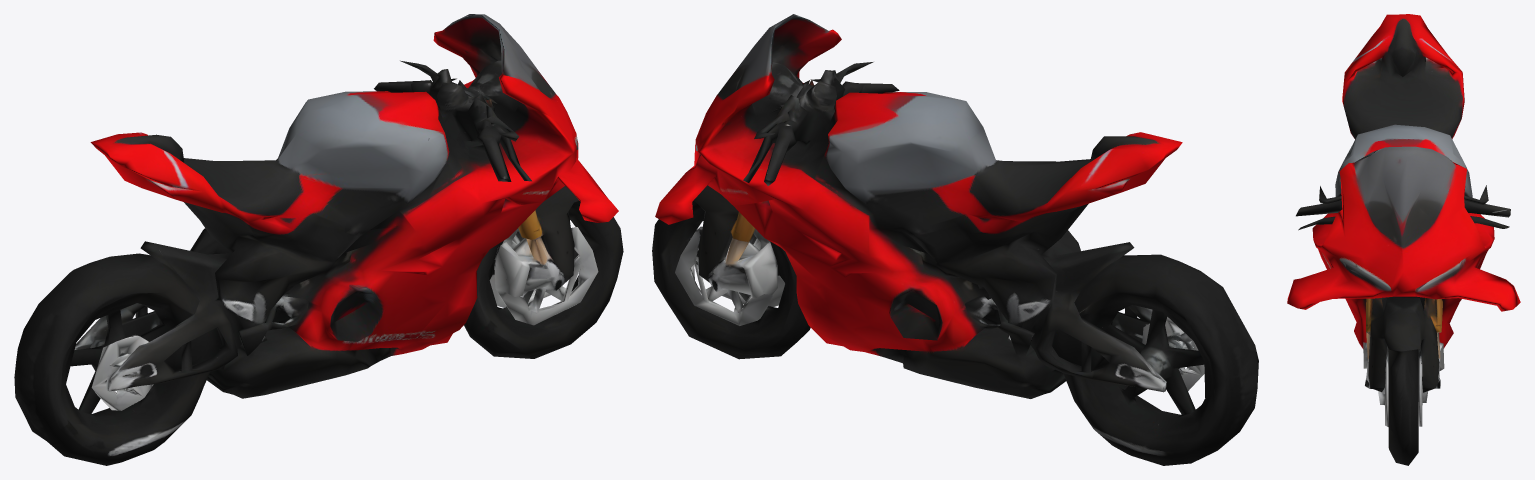
Rendered from Ducati Panigale.glb.
3 views of the same model, side by side, from view 1: azimuth 30°, elevation 25°; view 2: azimuth 150°, elevation 25°; view 3: azimuth 270°, elevation 25° (orthographic). The views are drawn at different scales.
Parts seen in each view (by area): view 1: tripo_node_70424550-a2d5-404c-b1b6-09464f8ef291; view 2: tripo_node_70424550-a2d5-404c-b1b6-09464f8ef291; view 3: tripo_node_70424550-a2d5-404c-b1b6-09464f8ef291.
Part boxes in pixels (<box>): tripo_node_70424550-a2d5-404c-b1b6-09464f8ef291: <box>14,14,623,465</box>; tripo_node_70424550-a2d5-404c-b1b6-09464f8ef291: <box>652,14,1258,465</box>; tripo_node_70424550-a2d5-404c-b1b6-09464f8ef291: <box>1287,14,1520,465</box>.
Bounding box in the file's own units: 1 × 0.55 × 0.3989.
1 material, 1 textured.
